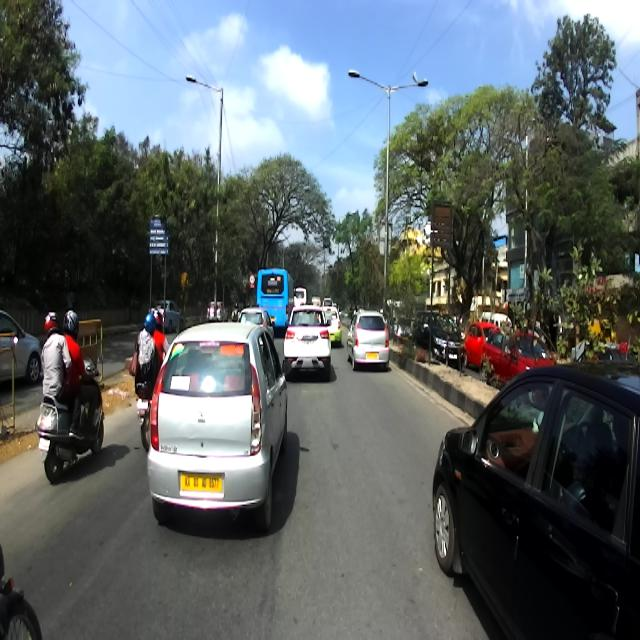car ahead at: (438, 349, 640, 640), (146, 314, 289, 538), (280, 297, 334, 393)
motorcycle ahead at: (34, 387, 109, 484)
